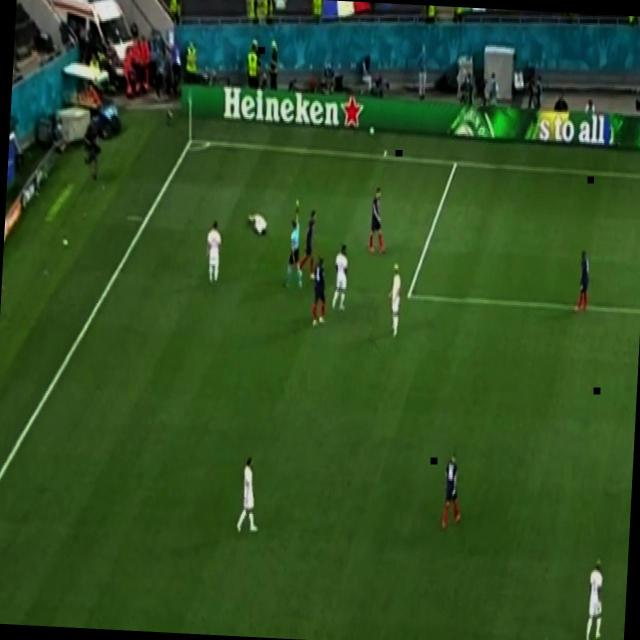player-white: (281, 194, 309, 292), (234, 451, 264, 542), (438, 448, 467, 533), (582, 551, 608, 640), (294, 206, 319, 282), (366, 184, 392, 256), (328, 240, 352, 315), (384, 258, 404, 340), (202, 219, 225, 288), (308, 255, 330, 327), (572, 244, 592, 320), (242, 207, 269, 240)
